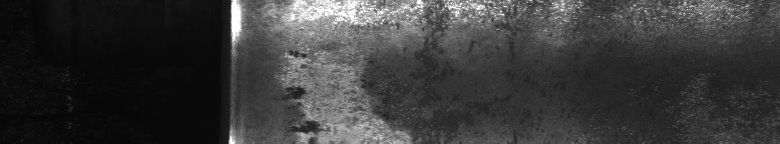kb: (240, 4, 754, 136)
